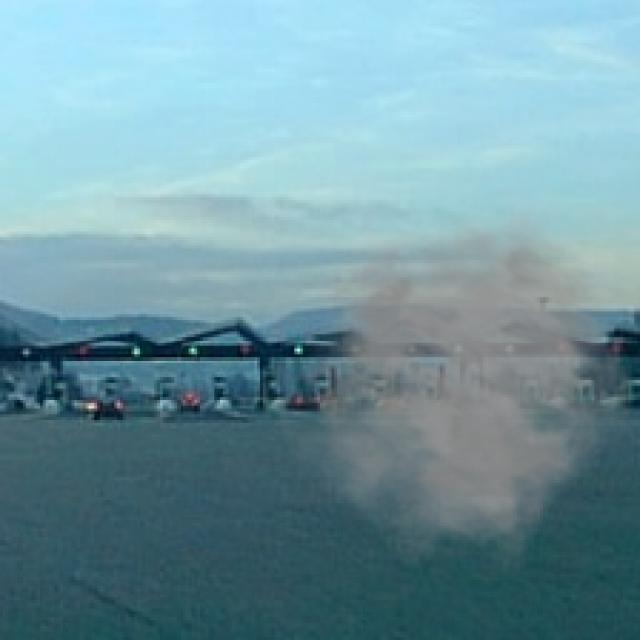Smoke: (272, 212, 634, 574)
